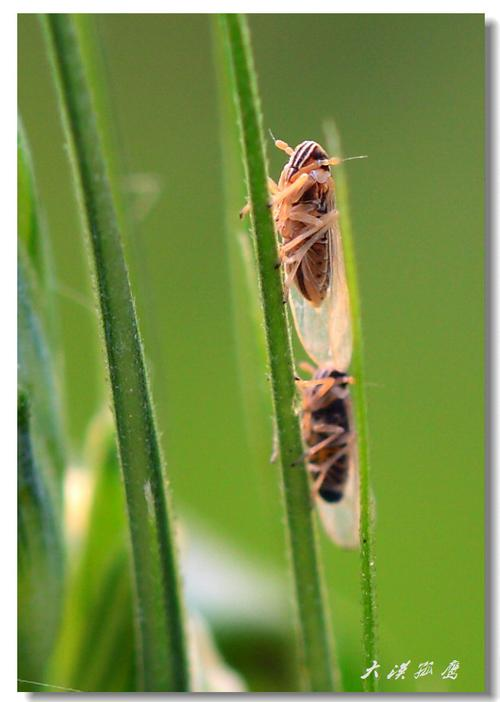Delphacidae: (239, 126, 354, 375), (270, 361, 361, 554)
